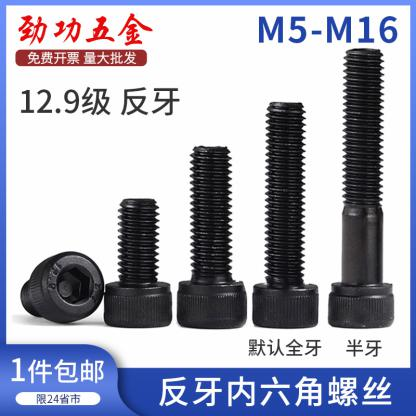FOD: (326, 47, 397, 330), (250, 100, 320, 331), (172, 145, 249, 332), (103, 194, 173, 329), (18, 249, 104, 328)
